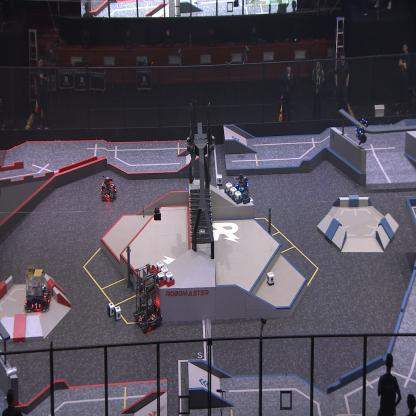car: (133, 262, 164, 330), (23, 265, 53, 314), (99, 176, 118, 202), (233, 172, 250, 194)
